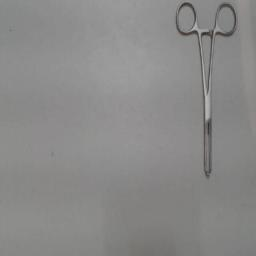Allis Tissue Forceps: (171, 0, 241, 182)
